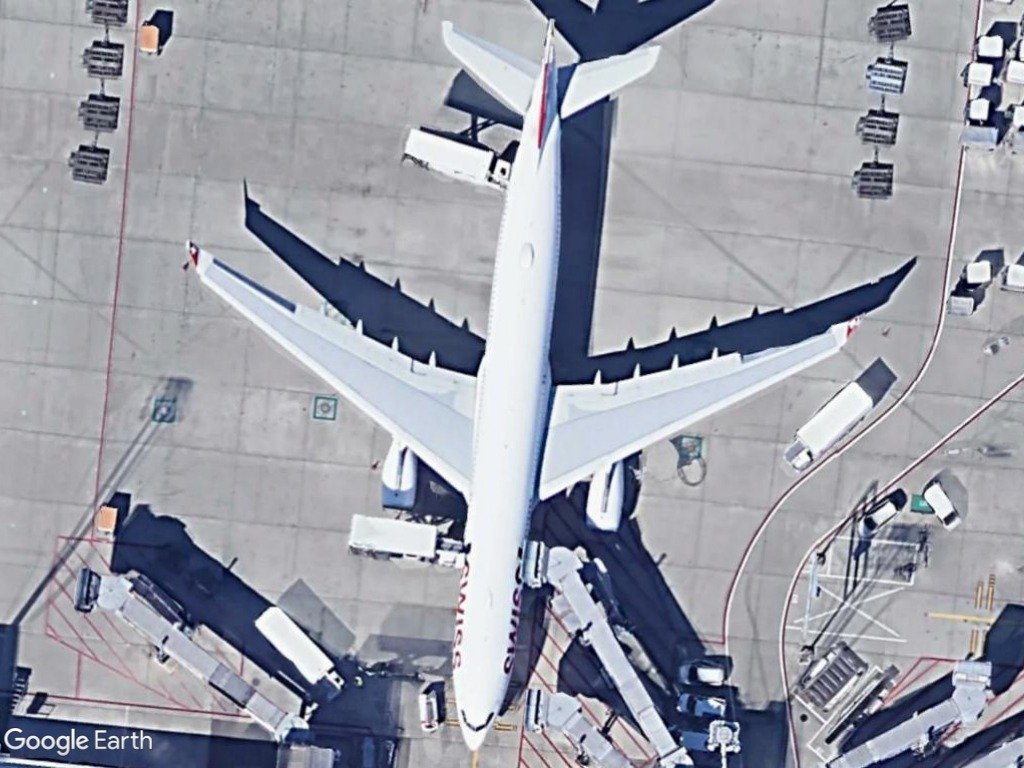airliner: (176, 7, 864, 754)
car: (676, 660, 728, 690)
truck: (250, 603, 349, 705), (778, 380, 873, 473), (401, 123, 511, 192), (342, 511, 465, 571)
